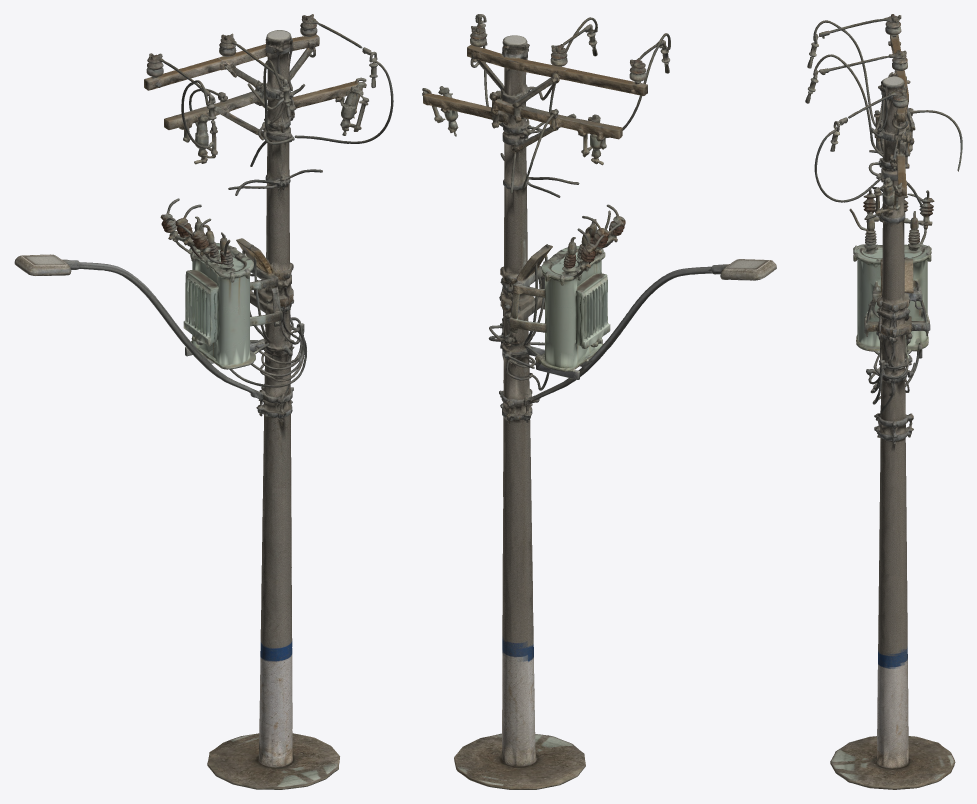
Rendered from power_pole.glb.
3 views of the same model, side by side, from view 1: azimuth 30°, elevation 25°; view 2: azimuth 150°, elevation 25°; view 3: azimuth 270°, elevation 25° (orthographic). The views are drawn at different scales.
Parts seen in each view (by area): view 1: power_pole; view 2: power_pole; view 3: power_pole.
Boxes of the visible parts, bbox=[...] form: power_pole: bbox=[14, 14, 393, 789]; power_pole: bbox=[422, 14, 776, 789]; power_pole: bbox=[805, 14, 962, 789].
Size of the model in its own units: 94.21 by 191 by 39.18.
Materials: 1 (1 with a texture image).
